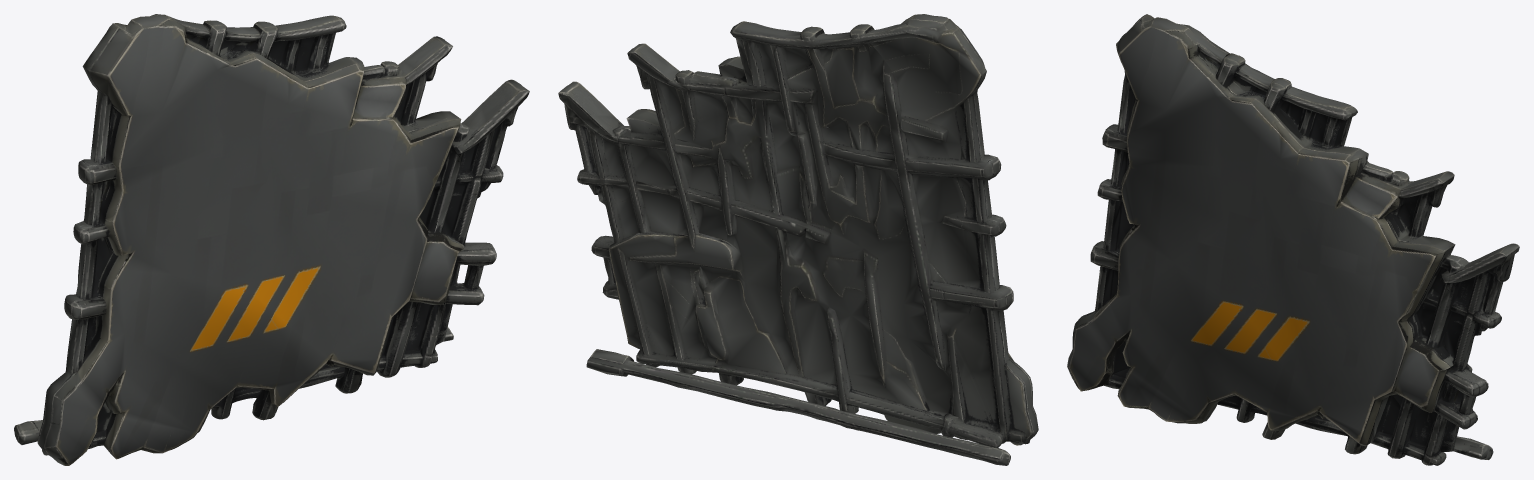
Rendered from 04_hull_plate_slab.fbx.
3 views of the same model, side by side, from view 1: azimuth 30°, elevation 25°; view 2: azimuth 150°, elevation 25°; view 3: azimuth 330°, elevation 25° (orthographic). The views are drawn at different scales.
Parts seen in each view (by area): view 1: 04_hull_plate_slab; view 2: 04_hull_plate_slab; view 3: 04_hull_plate_slab.
Boxes of the visible parts, x1,y1,x2,y2 form: 04_hull_plate_slab: (14, 14, 529, 465); 04_hull_plate_slab: (558, 14, 1038, 465); 04_hull_plate_slab: (1067, 14, 1519, 465).
Size of the model in its own units: 2.8 by 2.39 by 0.4123.
Materials: 1 (1 with a texture image).
